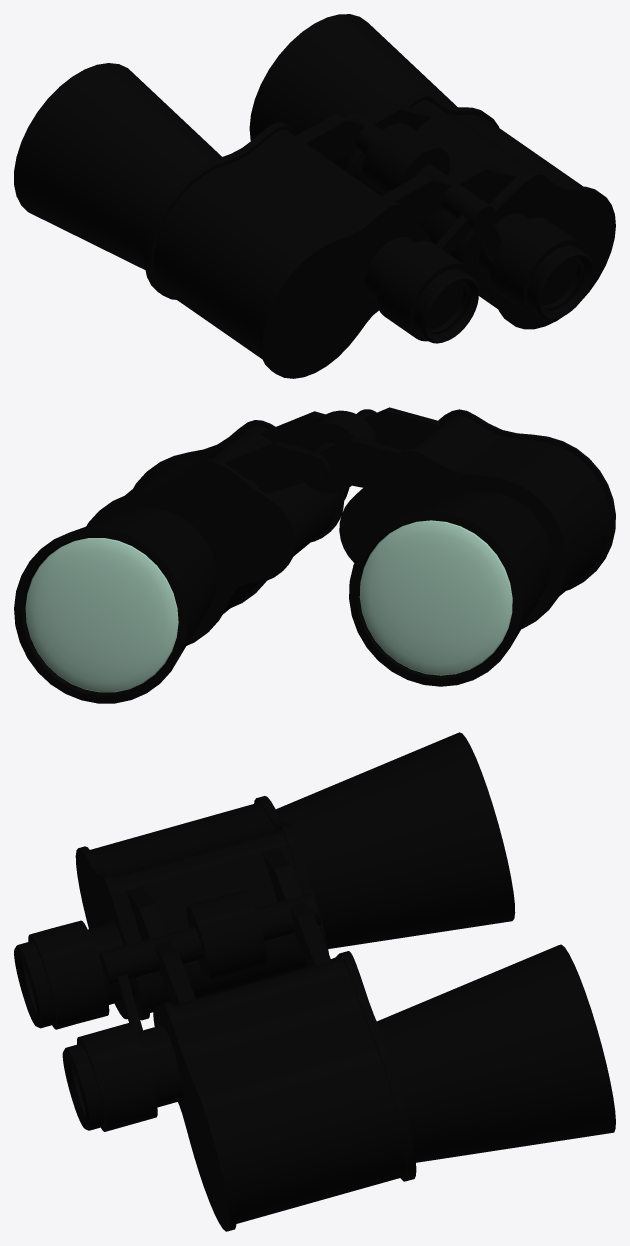
Rendered from Binocular.fbx.
3 renders of one model, top to bottom at view 1: azimuth 30°, elevation 25°; view 2: azimuth 150°, elevation 25°; view 3: azimuth 270°, elevation 25°, orthographic. The views are drawn at different scales.
Parts seen in each view (by area): view 1: cuerpo; view 2: cuerpo, vidrios; view 3: cuerpo.
Boxes of the visible parts, <box> form: cuerpo: <box>14,14,615,378</box>; cuerpo: <box>14,407,615,703</box>; vidrios: <box>25,520,512,692</box>; cuerpo: <box>14,732,615,1231</box>.
Size of the model in its own units: 1254 by 635 by 1183.
